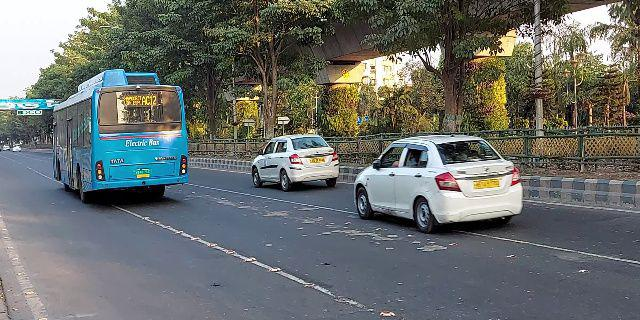Bus: (52, 69, 193, 202)
Car: (351, 132, 525, 237), (249, 130, 342, 191)
